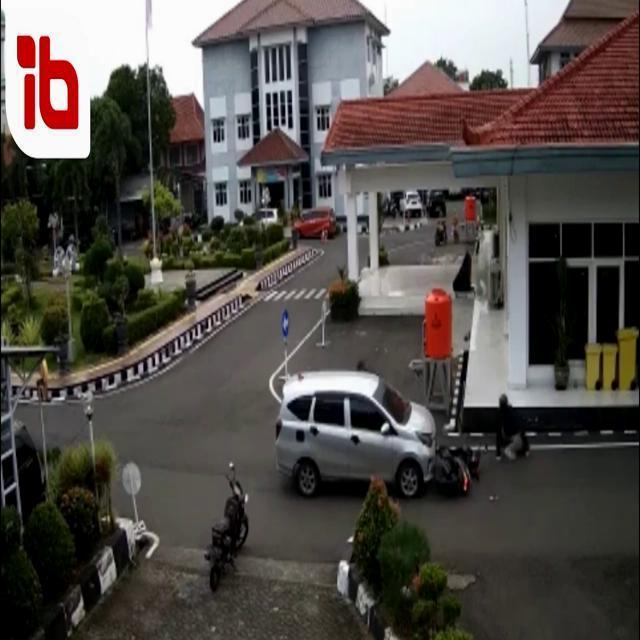accident: (276, 372, 478, 500)
